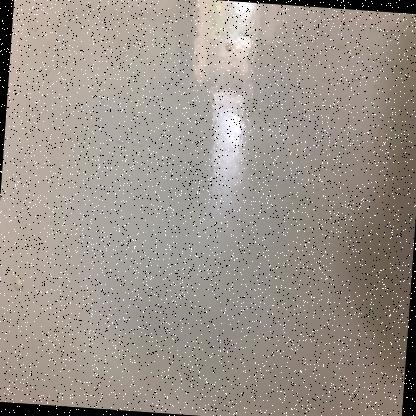Nocrack: (9, 19, 411, 401)
